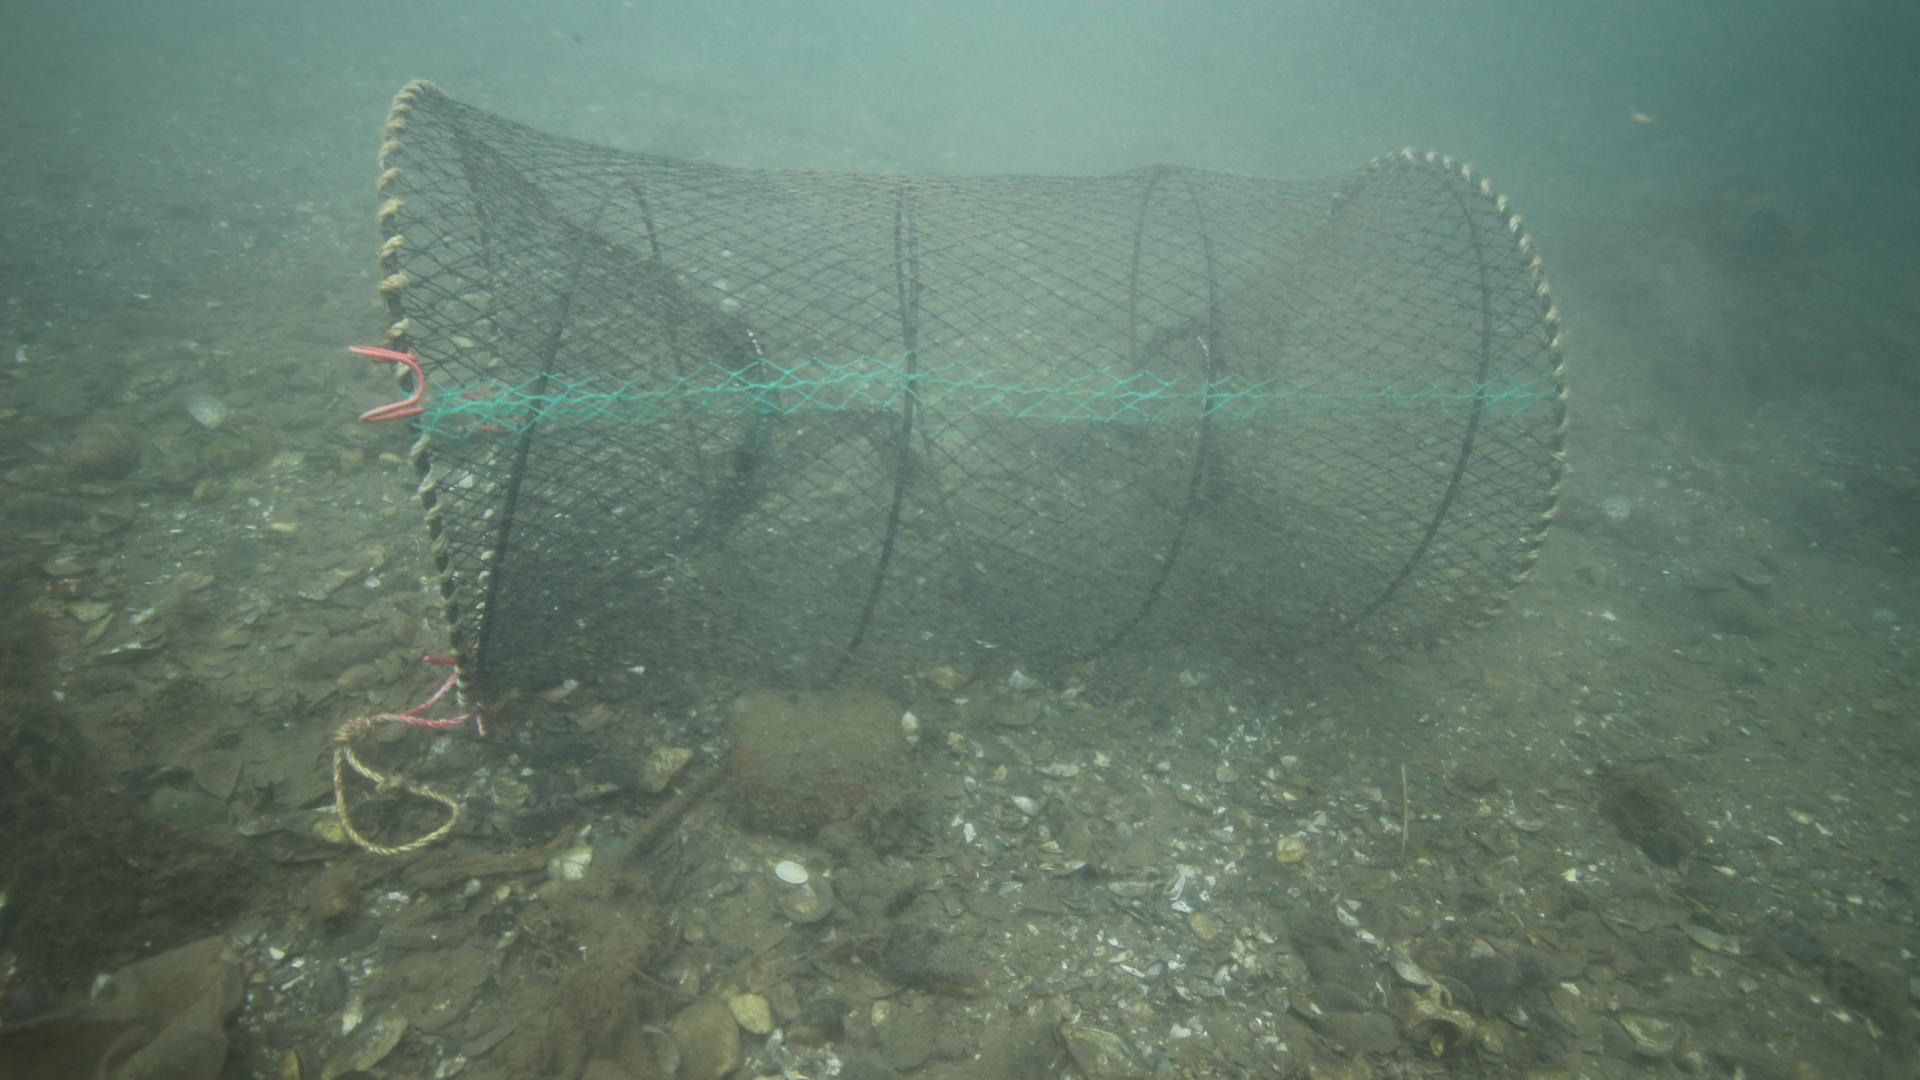bundle of ropes: (328, 670, 469, 852)
spring fish trap: (372, 78, 1572, 725)
